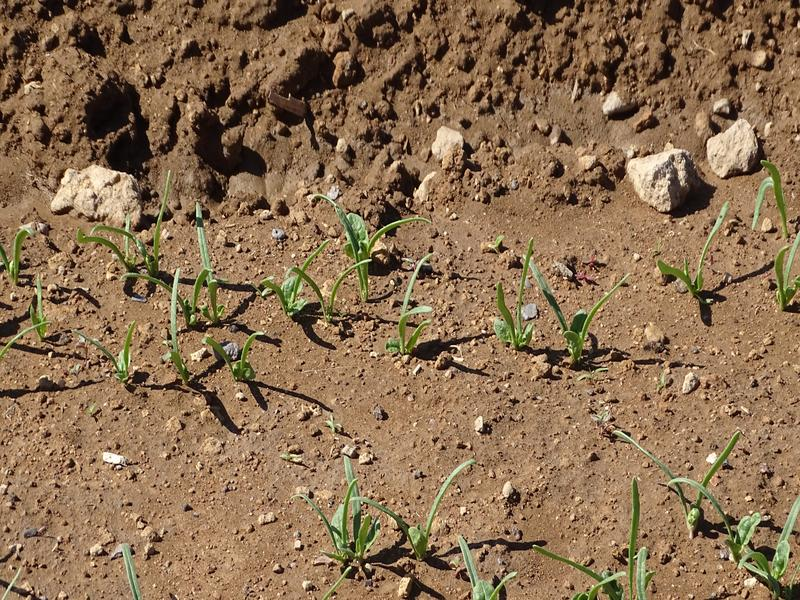Espinaca: (288, 182, 636, 365), (586, 422, 800, 597), (86, 192, 262, 372), (300, 461, 514, 593), (670, 159, 800, 312), (4, 232, 54, 347)
